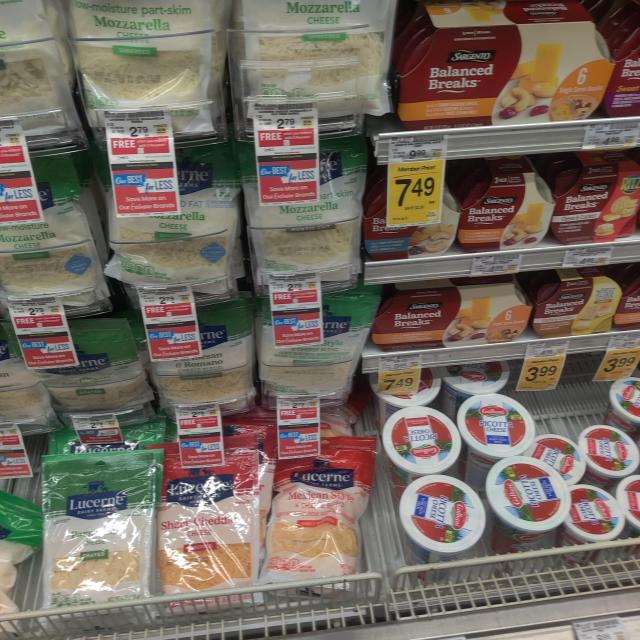Cheese: (384, 15, 624, 132), (227, 0, 402, 131), (355, 162, 564, 268), (65, 0, 217, 143), (33, 459, 159, 625), (265, 431, 383, 602), (161, 454, 274, 608), (240, 156, 367, 286), (252, 273, 364, 409), (99, 192, 247, 293), (144, 291, 257, 413), (39, 316, 158, 421)
